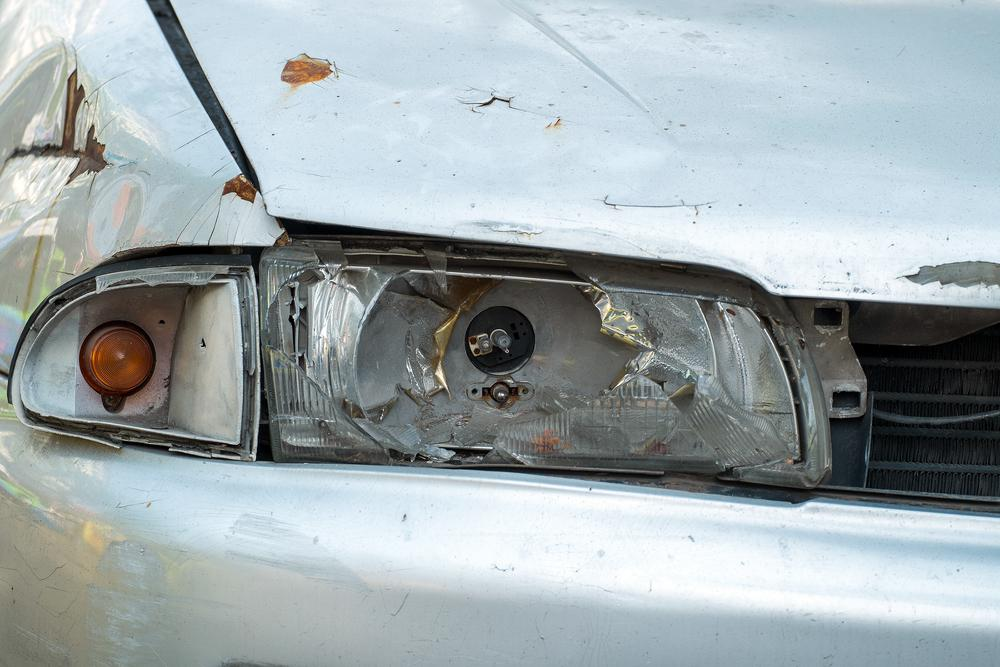dent: (0, 48, 145, 299)
lamp broken: (10, 255, 815, 503)
scratch: (28, 512, 368, 667)
